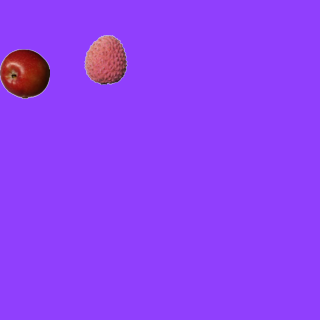Apple Braeburn: (0, 48, 49, 98)
Lychee: (80, 34, 130, 84)
